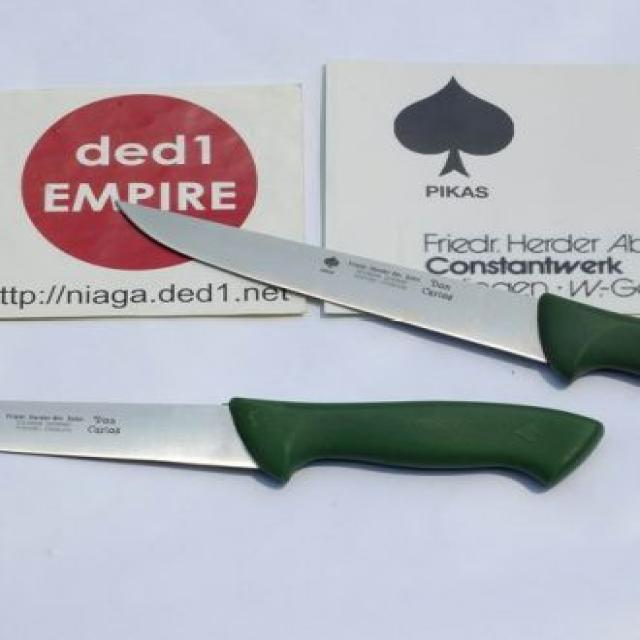Pisau: (119, 198, 640, 396)
